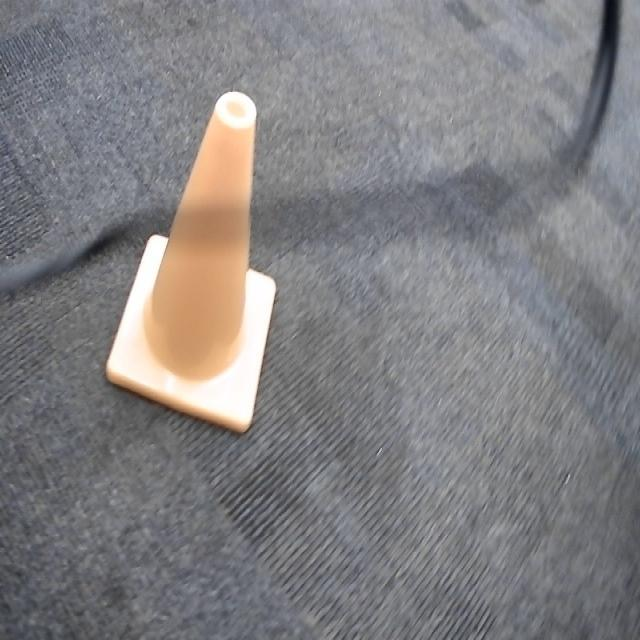cone: (97, 85, 281, 444)
